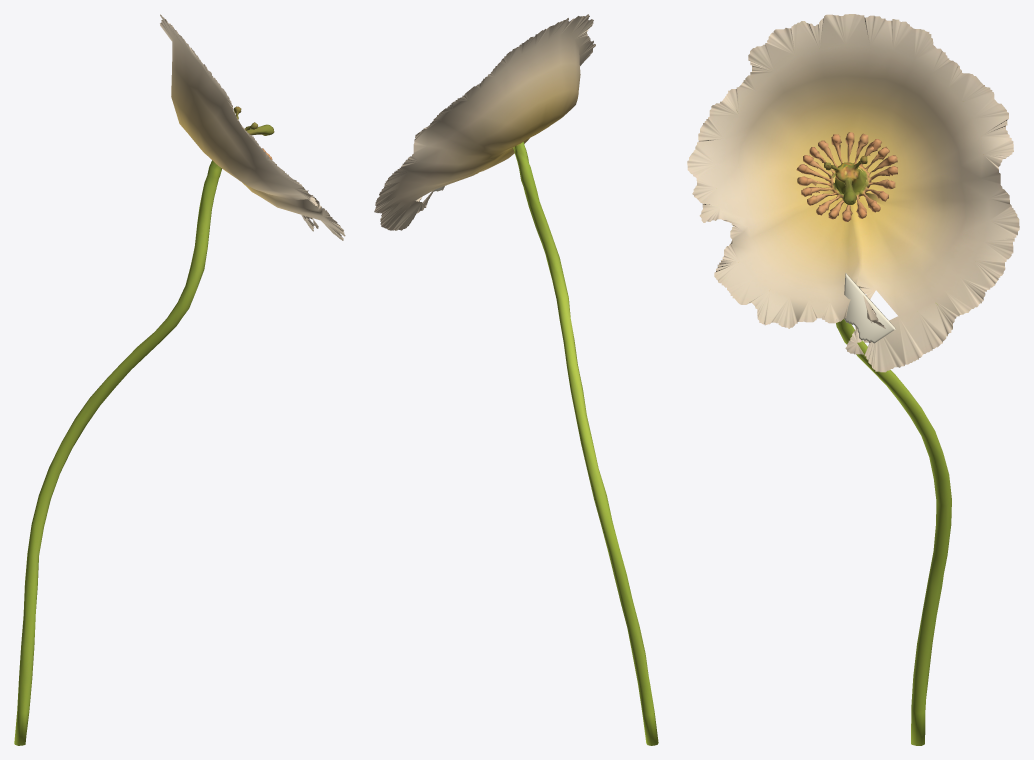
Rendered from flower-01-repaired.glb.
3 views of the same model, side by side, from view 1: azimuth 30°, elevation 25°; view 2: azimuth 150°, elevation 25°; view 3: azimuth 270°, elevation 25° (orthographic). The views are drawn at different scales.
Visible parts, largest first — view 1: tripo_node_538a1fed-c00b-47be-98b8-8a74b9595738; view 2: tripo_node_538a1fed-c00b-47be-98b8-8a74b9595738; view 3: tripo_node_538a1fed-c00b-47be-98b8-8a74b9595738.
Part boxes in pixels (x1=…): tripo_node_538a1fed-c00b-47be-98b8-8a74b9595738: x1=14, y1=14, x2=345, y2=745; tripo_node_538a1fed-c00b-47be-98b8-8a74b9595738: x1=374, y1=14, x2=658, y2=745; tripo_node_538a1fed-c00b-47be-98b8-8a74b9595738: x1=687, y1=14, x2=1019, y2=745.
Bounding box in the file's own units: 0.4218 × 0.998 × 0.375.
Materials: 2 (1 with a texture image).
